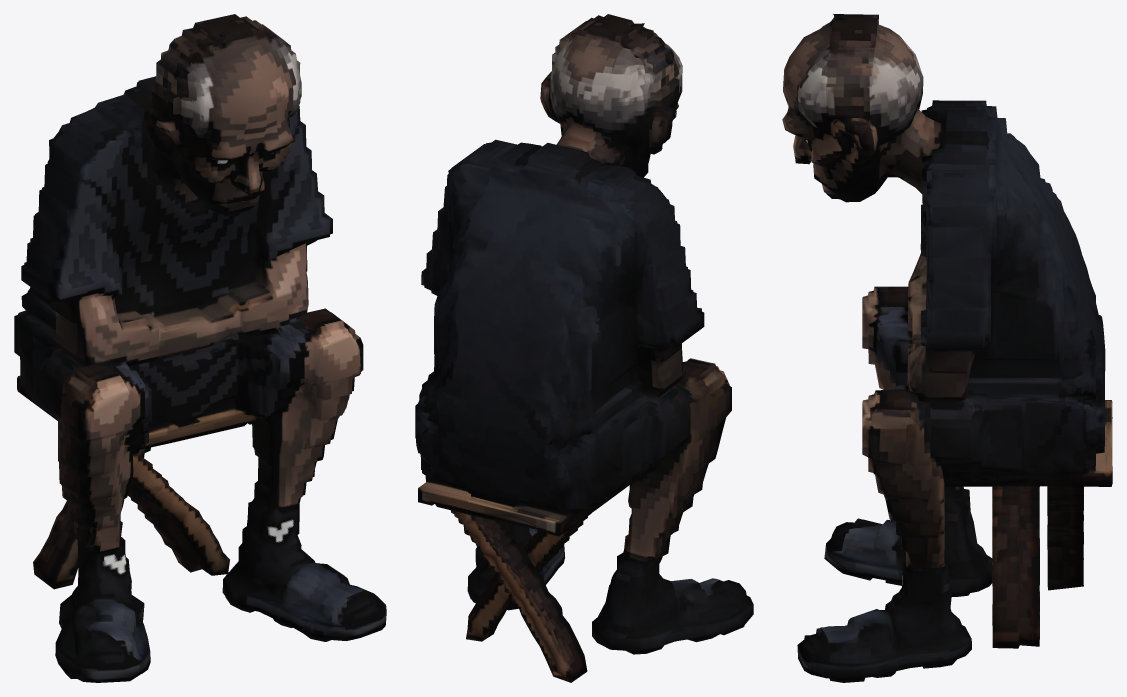
3 renders of one model, left to right at view 1: azimuth 30°, elevation 25°; view 2: azimuth 150°, elevation 25°; view 3: azimuth 270°, elevation 25°, orthographic. The views are drawn at different scales.
Parts seen in each view (by area): view 1: tripo_node_1ba874bf-25cc-450c-8f6e-671b36ffcc87; view 2: tripo_node_1ba874bf-25cc-450c-8f6e-671b36ffcc87; view 3: tripo_node_1ba874bf-25cc-450c-8f6e-671b36ffcc87.
Part boxes in pixels (bbox=[...]): tripo_node_1ba874bf-25cc-450c-8f6e-671b36ffcc87: bbox=[14, 14, 386, 682]; tripo_node_1ba874bf-25cc-450c-8f6e-671b36ffcc87: bbox=[415, 14, 753, 682]; tripo_node_1ba874bf-25cc-450c-8f6e-671b36ffcc87: bbox=[782, 14, 1112, 682].
Size of the model in its own units: 0.4948 by 0.98 by 0.4956.
1 material, 1 textured.
